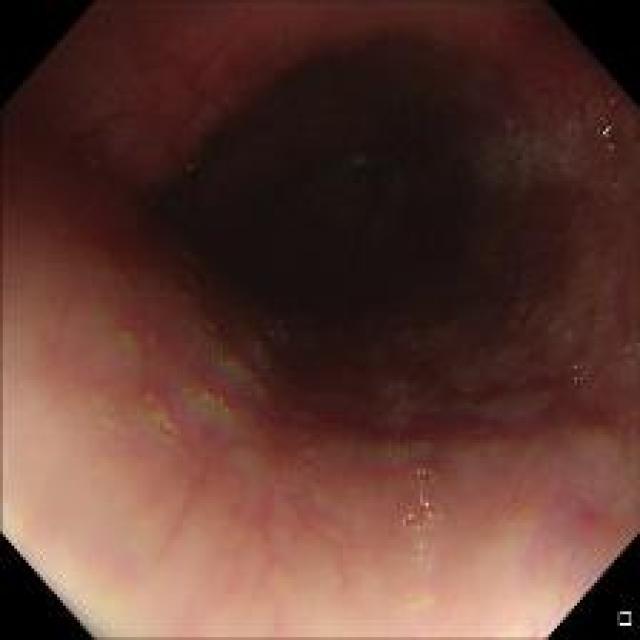bubbles: (446, 100, 638, 209), (400, 461, 445, 564), (182, 378, 248, 432), (211, 349, 266, 401), (149, 394, 176, 440), (385, 440, 408, 466)
color misalignment: (598, 115, 616, 144)
contrast: (156, 49, 581, 432)
